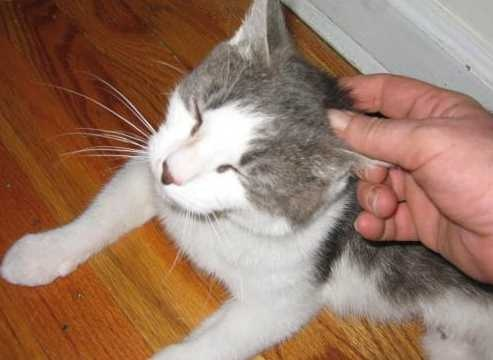Cat: (0, 0, 472, 359)
